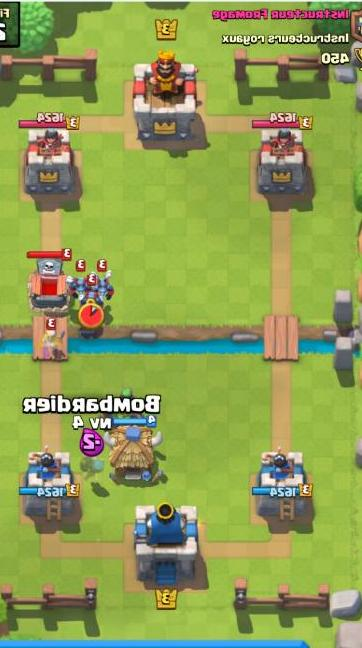enemy_minions: (89, 272, 118, 303), (65, 270, 91, 298)
enemy_skeletons: (36, 319, 67, 355)
enemy_tombstone: (22, 243, 73, 313)
player_goblin_hut: (104, 408, 168, 485)
